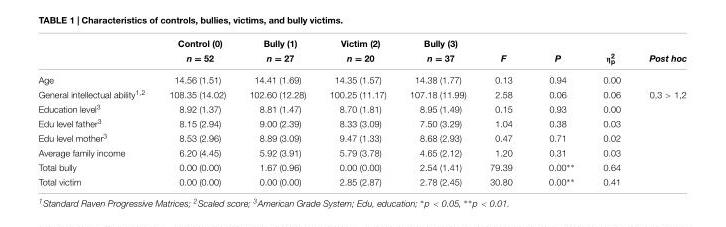table: (37, 37, 686, 187)
table column: (37, 37, 156, 187), (236, 37, 317, 187), (156, 37, 236, 187), (317, 37, 397, 187), (397, 37, 477, 187), (529, 37, 587, 187), (477, 37, 529, 187), (634, 37, 686, 187), (587, 37, 634, 187)
table column header: (37, 37, 686, 71)
table row: (37, 49, 686, 71), (37, 158, 686, 174), (37, 85, 686, 100), (37, 100, 686, 115), (37, 129, 686, 144), (37, 71, 686, 85), (37, 115, 686, 129), (37, 144, 686, 158), (37, 174, 686, 187), (37, 37, 686, 49)
table spanning cell: (236, 37, 317, 71), (156, 37, 236, 71), (317, 37, 397, 71), (397, 37, 477, 71), (529, 37, 587, 71), (477, 37, 529, 71), (634, 37, 686, 71), (587, 37, 634, 71)
